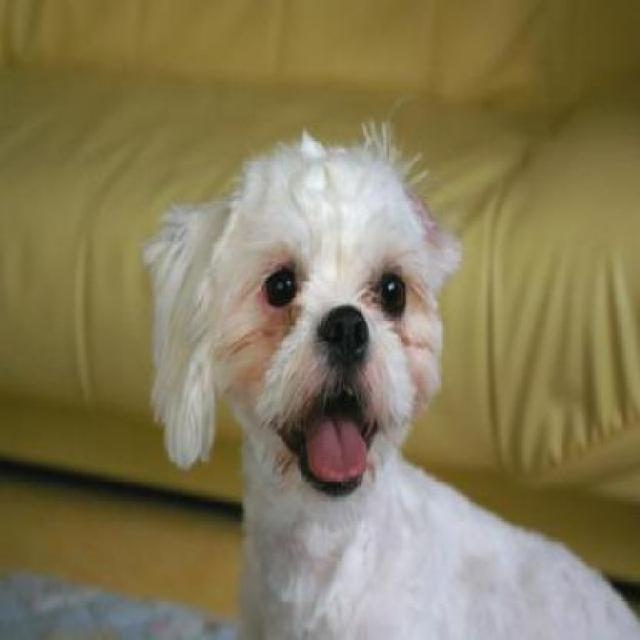Dog: (135, 120, 631, 638)
